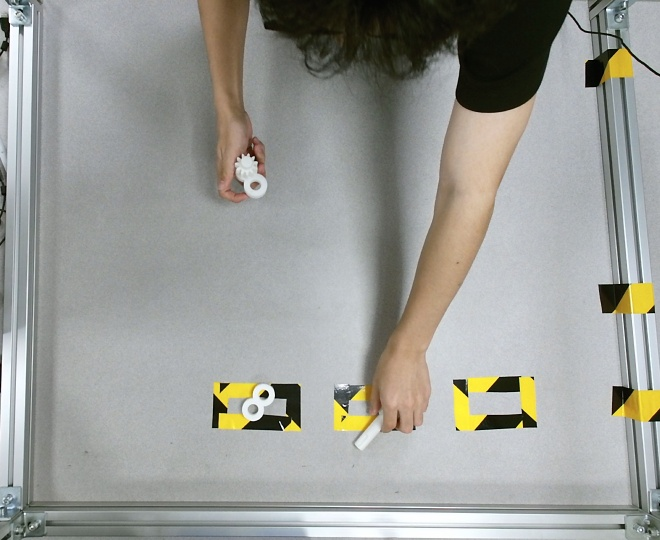stage_2: (235, 153, 267, 199)
